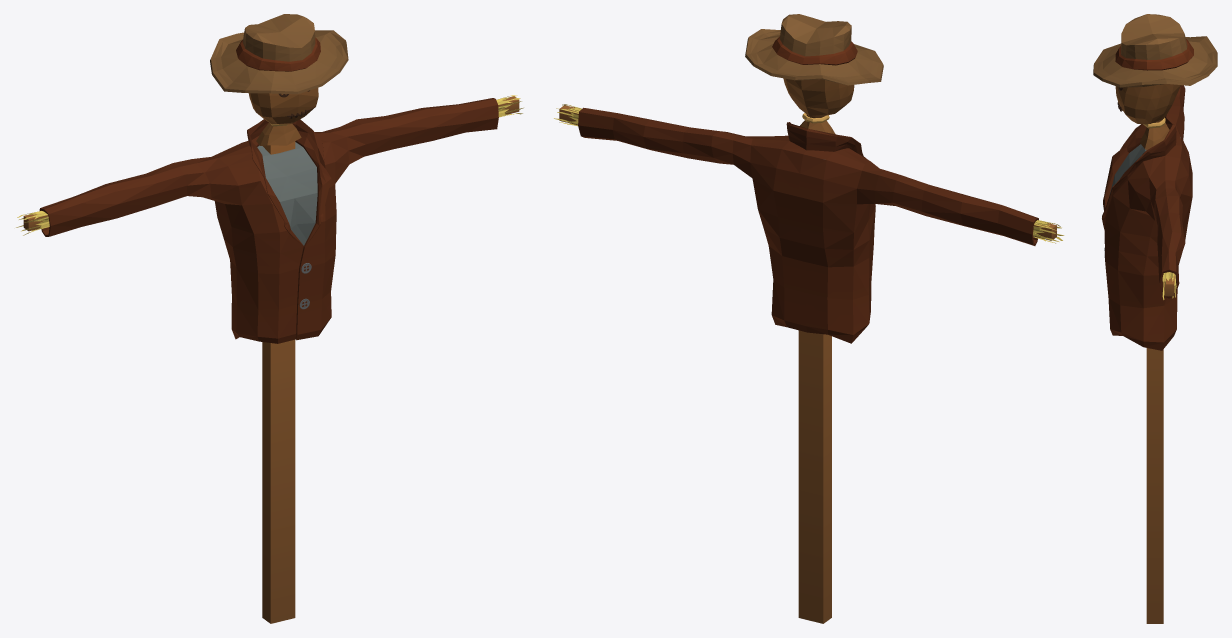
The model's file is Prop_Scarecrow_05.obj.
The picture shows the model from 3 angles, left to right: view 1: azimuth 30°, elevation 25°; view 2: azimuth 150°, elevation 25°; view 3: azimuth 270°, elevation 25°; orthographic projection.
Parts seen in each view (by area): view 1: Prop_Scarecrow_05; view 2: Prop_Scarecrow_05; view 3: Prop_Scarecrow_05.
Part boxes in pixels (x1,y1,x2,y2): Prop_Scarecrow_05: [16, 14, 523, 623]; Prop_Scarecrow_05: [554, 14, 1064, 623]; Prop_Scarecrow_05: [1093, 14, 1217, 623].
Bounding box in the file's own units: 1.98 × 2.23 × 0.4238.
1 material, 1 textured.
